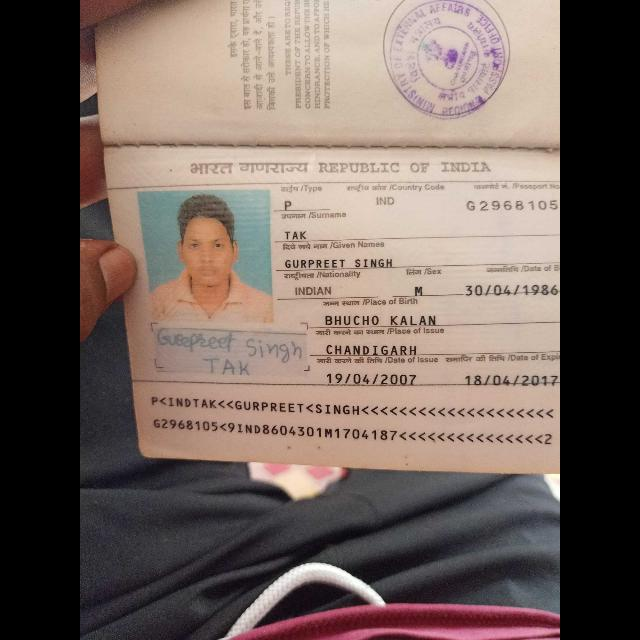passport: (96, 137, 560, 479)
